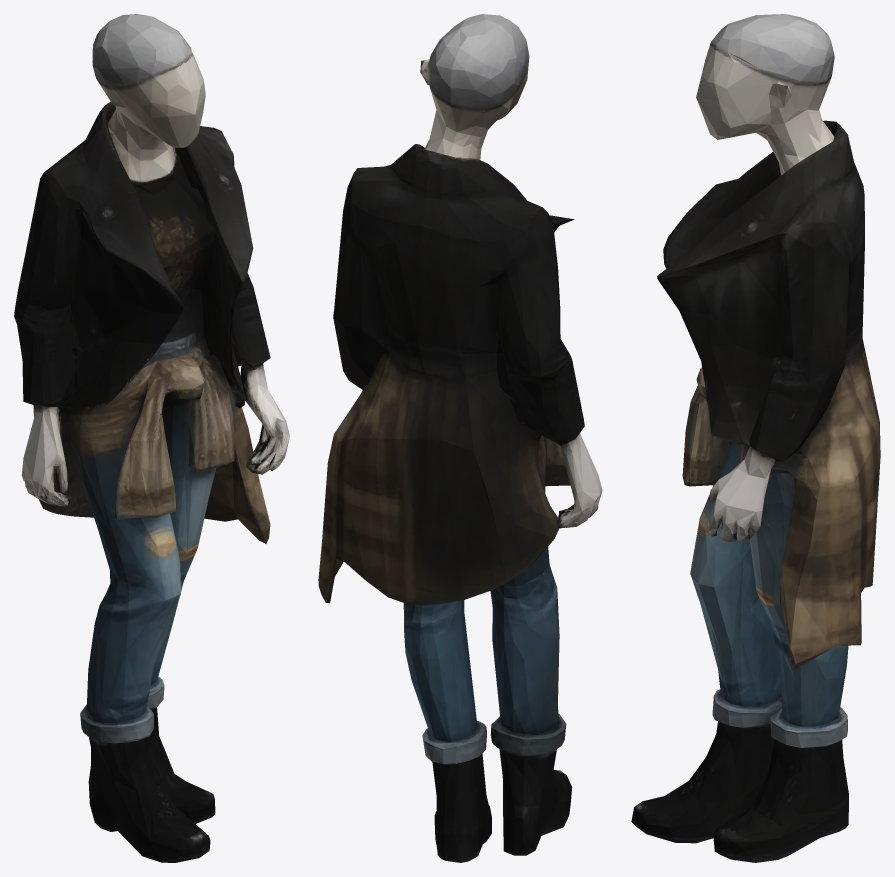
The model's file is mannequin_person_darkjacket.glb.
The picture shows the model from 3 angles, left to right: view 1: azimuth 30°, elevation 25°; view 2: azimuth 150°, elevation 25°; view 3: azimuth 270°, elevation 25°; orthographic projection. The views are drawn at different scales.
Visible parts, largest first — view 1: geometry_0; view 2: geometry_0; view 3: geometry_0.
Part boxes in pixels (x1,y1,x2,y2): geometry_0: [14, 14, 289, 862]; geometry_0: [318, 14, 602, 862]; geometry_0: [631, 14, 880, 862].
Size of the model in its own units: 0.3307 by 0.9997 by 0.2743.
1 material, 1 textured.
